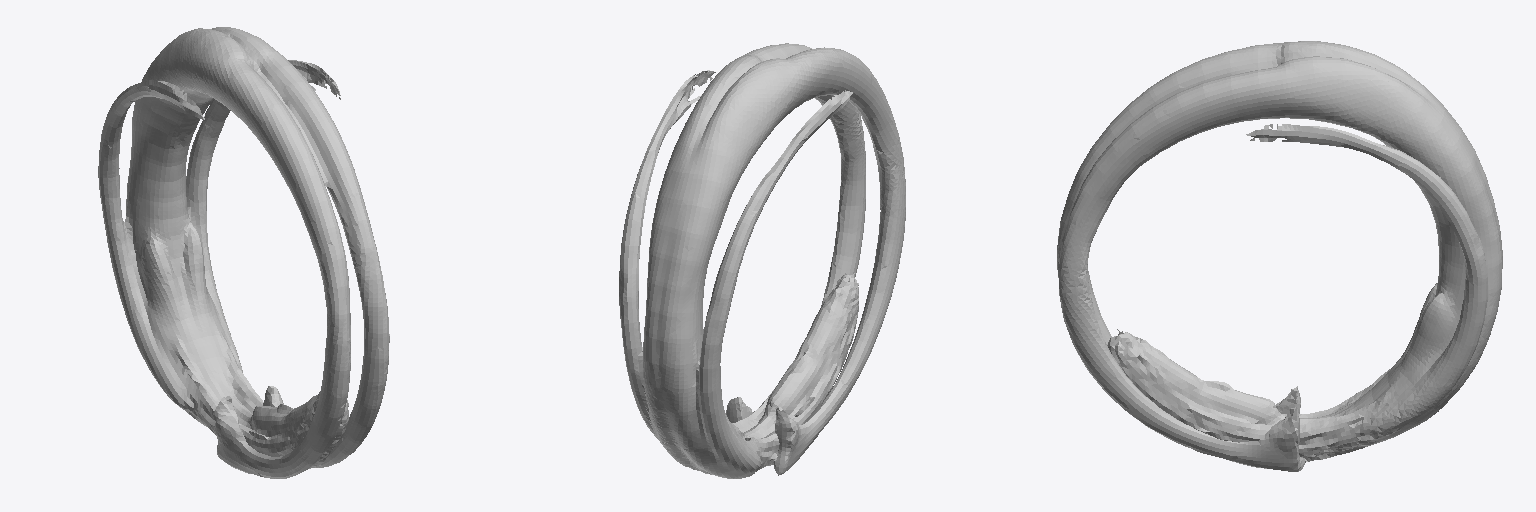
Rendered from theRings03_low.obj.
3 renders of one model, left to right at view 1: azimuth 30°, elevation 25°; view 2: azimuth 150°, elevation 25°; view 3: azimuth 270°, elevation 25°, orthographic.
Size of the model in its own units: 10.55 by 27.91 by 27.3.